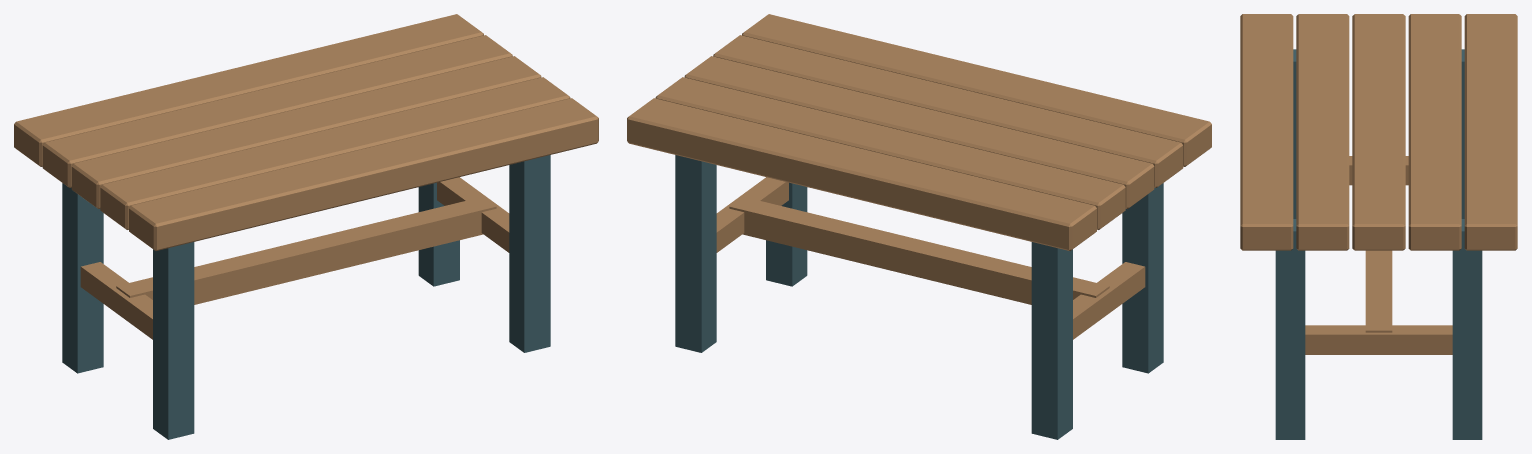
The model's file is AC_Work_Table.glb.
3 renders of one model, left to right at view 1: azimuth 30°, elevation 25°; view 2: azimuth 150°, elevation 25°; view 3: azimuth 270°, elevation 25°, orthographic. The views are drawn at different scales.
Visible parts, largest first — view 1: AC_Work_Table; view 2: AC_Work_Table; view 3: AC_Work_Table.
Part boxes in pixels (box(x1,y1,x2,y2)): AC_Work_Table: box(14, 14, 598, 439); AC_Work_Table: box(627, 14, 1211, 439); AC_Work_Table: box(1240, 14, 1517, 439).
Size of the model in its own units: 1.7 by 0.86 by 0.94.
